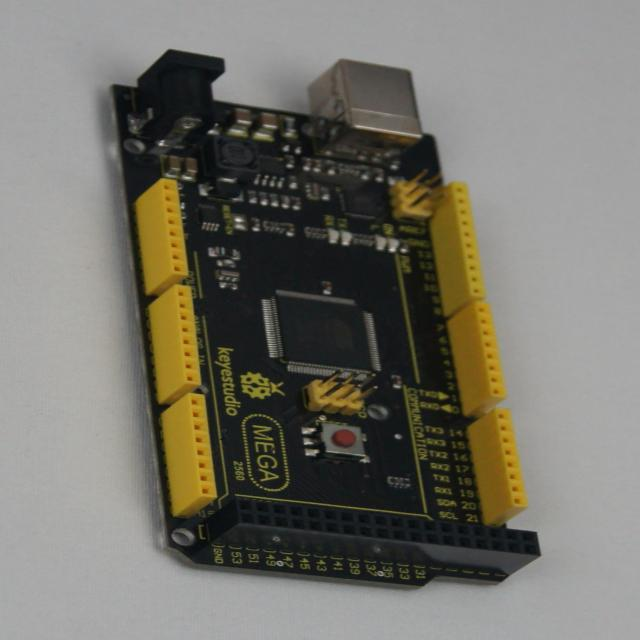Arduino Mega 2560 -Yellow-: (113, 51, 540, 587)
